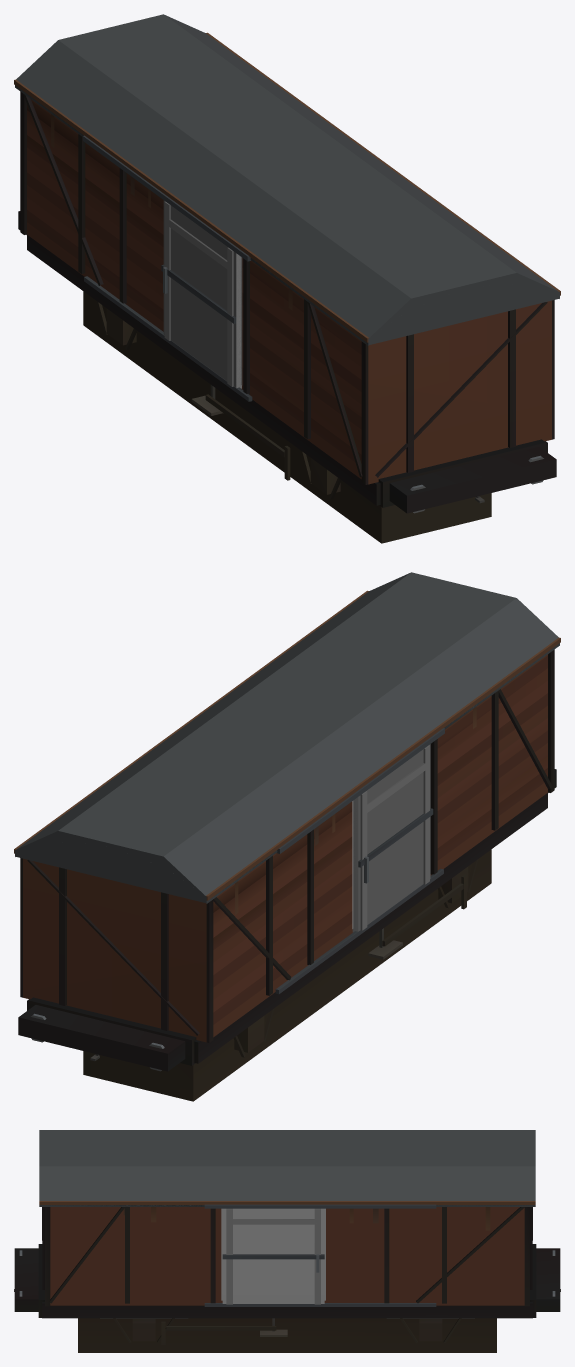
File: train_any_wagon.glb
The picture shows the model from 3 angles, top to bottom: view 1: azimuth 30°, elevation 25°; view 2: azimuth 150°, elevation 25°; view 3: azimuth 270°, elevation 25°; orthographic projection. The views are drawn at different scales.
Visible parts, largest first — view 1: train_any_wagon_LOD2_mesh, train_any_wagon_LOD0_mesh, train_any_wagon_LOD0_door_mesh, train_any_wagon_LOD1_mesh, train_any_wagon_LOD1_roof_mesh, train_any_wagon_LOD0_roof_mesh; view 2: train_any_wagon_LOD2_mesh, train_any_wagon_LOD0_mesh, train_any_wagon_LOD0_door_mesh, train_any_wagon_LOD1_mesh, train_any_wagon_LOD1_roof_2_mesh, train_any_wagon_LOD0_roof_2_mesh; view 3: train_any_wagon_LOD2_mesh, train_any_wagon_LOD1_mesh, train_any_wagon_LOD0_mesh, train_any_wagon_LOD0_roof_mesh.
Part boxes in pixels (x1,y1,x2,y2): train_any_wagon_LOD2_mesh: (16, 14, 558, 543); train_any_wagon_LOD0_mesh: (14, 32, 560, 513); train_any_wagon_LOD0_door_mesh: (161, 200, 241, 388); train_any_wagon_LOD1_mesh: (27, 235, 547, 507); train_any_wagon_LOD1_roof_mesh: (252, 259, 558, 344); train_any_wagon_LOD0_roof_mesh: (250, 258, 559, 345); train_any_wagon_LOD2_mesh: (16, 572, 558, 1101); train_any_wagon_LOD0_mesh: (14, 590, 560, 1071); train_any_wagon_LOD0_door_mesh: (352, 744, 433, 931); train_any_wagon_LOD1_mesh: (27, 793, 547, 1065); train_any_wagon_LOD1_roof_2_mesh: (15, 842, 277, 902); train_any_wagon_LOD0_roof_2_mesh: (15, 842, 277, 903); train_any_wagon_LOD2_mesh: (14, 1130, 560, 1352); train_any_wagon_LOD1_mesh: (38, 1208, 536, 1341); train_any_wagon_LOD0_mesh: (14, 1201, 560, 1344); train_any_wagon_LOD0_roof_mesh: (39, 1205, 204, 1206).
Bounding box in the file's own units: 3 × 3.72 × 9.92.
